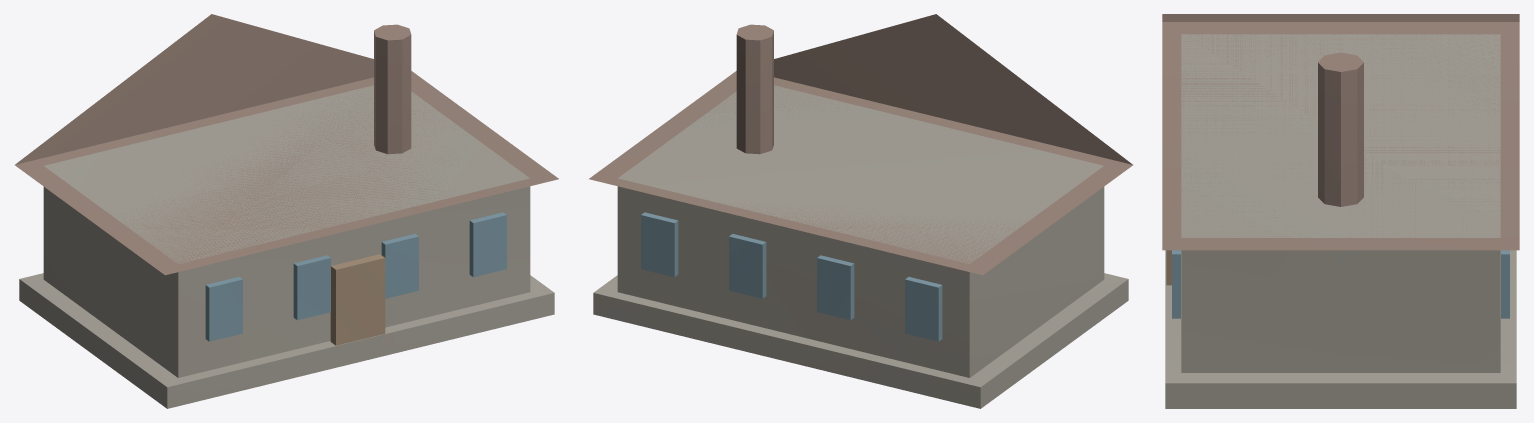
Rendered from chalet-02.glb.
3 views of the same model, side by side, from view 1: azimuth 30°, elevation 25°; view 2: azimuth 150°, elevation 25°; view 3: azimuth 270°, elevation 25° (orthographic). The views are drawn at different scales.
Visible parts, largest first — view 1: world; view 2: world; view 3: world.
Part boxes in pixels (x1,y1,x2,y2): world: (15,14,558,408); world: (589,14,1132,408); world: (1162,14,1519,408).
Bounding box in the file's own units: 1.52 × 0.92 × 1.01.
